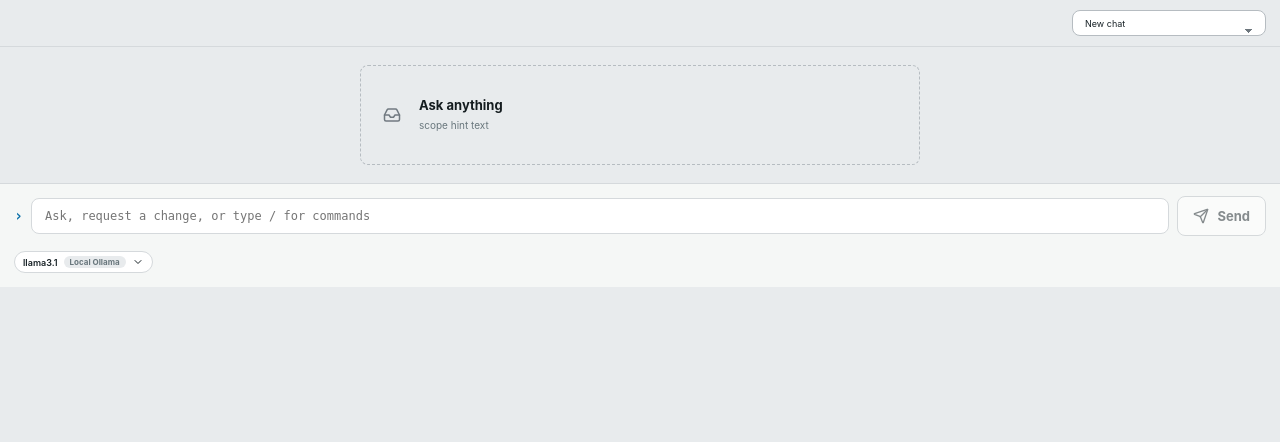
lists earlier conversations for this scope so they can be reopened
Select "llama3.1 · 8/24/2026, 12:00:00 AM" in the dropdown named "Conversation" at [1169, 23], box [1072,10,1266,36]
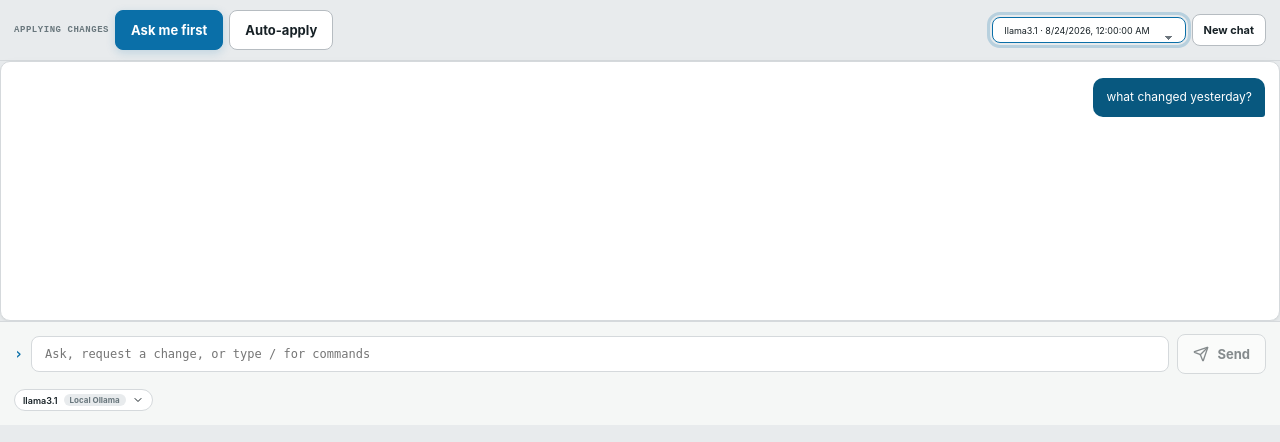
Result: the text "what changed yesterday?" is shown at [1093,78,1265,117]
